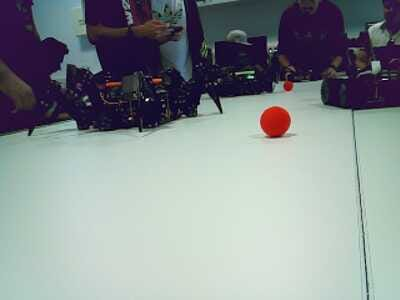bola_cerca: (259, 105, 292, 139)
bola_lejos: (283, 79, 292, 91)
hexapodo_ajeno: (76, 68, 175, 119), (220, 64, 271, 92)
